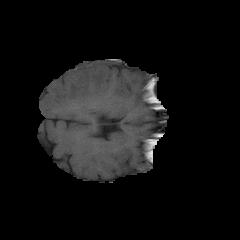glioma: (43, 65, 110, 112)
